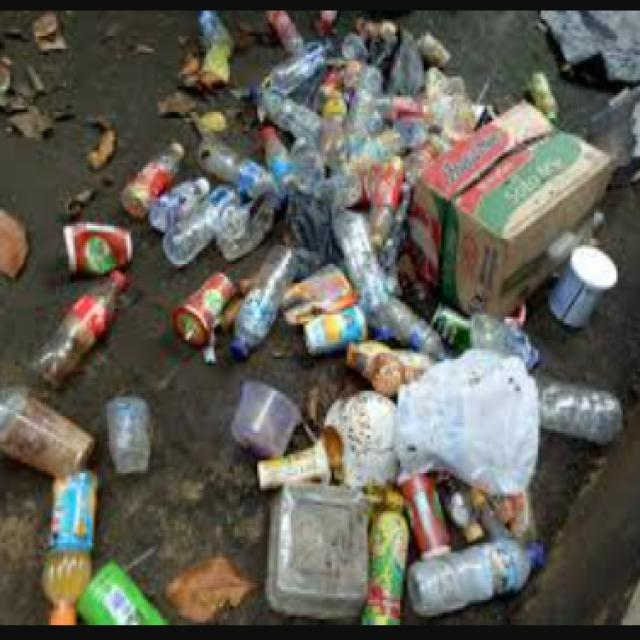KemasanPlastik: (399, 338, 542, 497), (268, 474, 368, 613), (33, 267, 132, 384), (411, 537, 545, 616), (44, 462, 100, 624), (1, 379, 98, 470), (235, 373, 299, 462), (122, 134, 184, 218), (60, 213, 139, 274), (174, 264, 235, 339), (104, 391, 158, 474)
